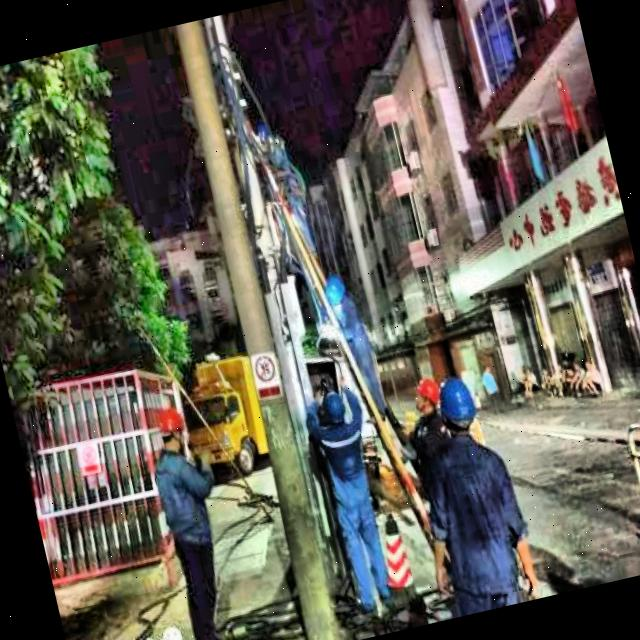helmet: (432, 373, 484, 442), (406, 369, 446, 416), (315, 387, 354, 435), (152, 403, 192, 449), (320, 269, 350, 314)
